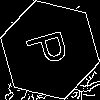P: (25, 25, 78, 70)
